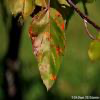Apple rust leaf: (28, 6, 68, 94)
